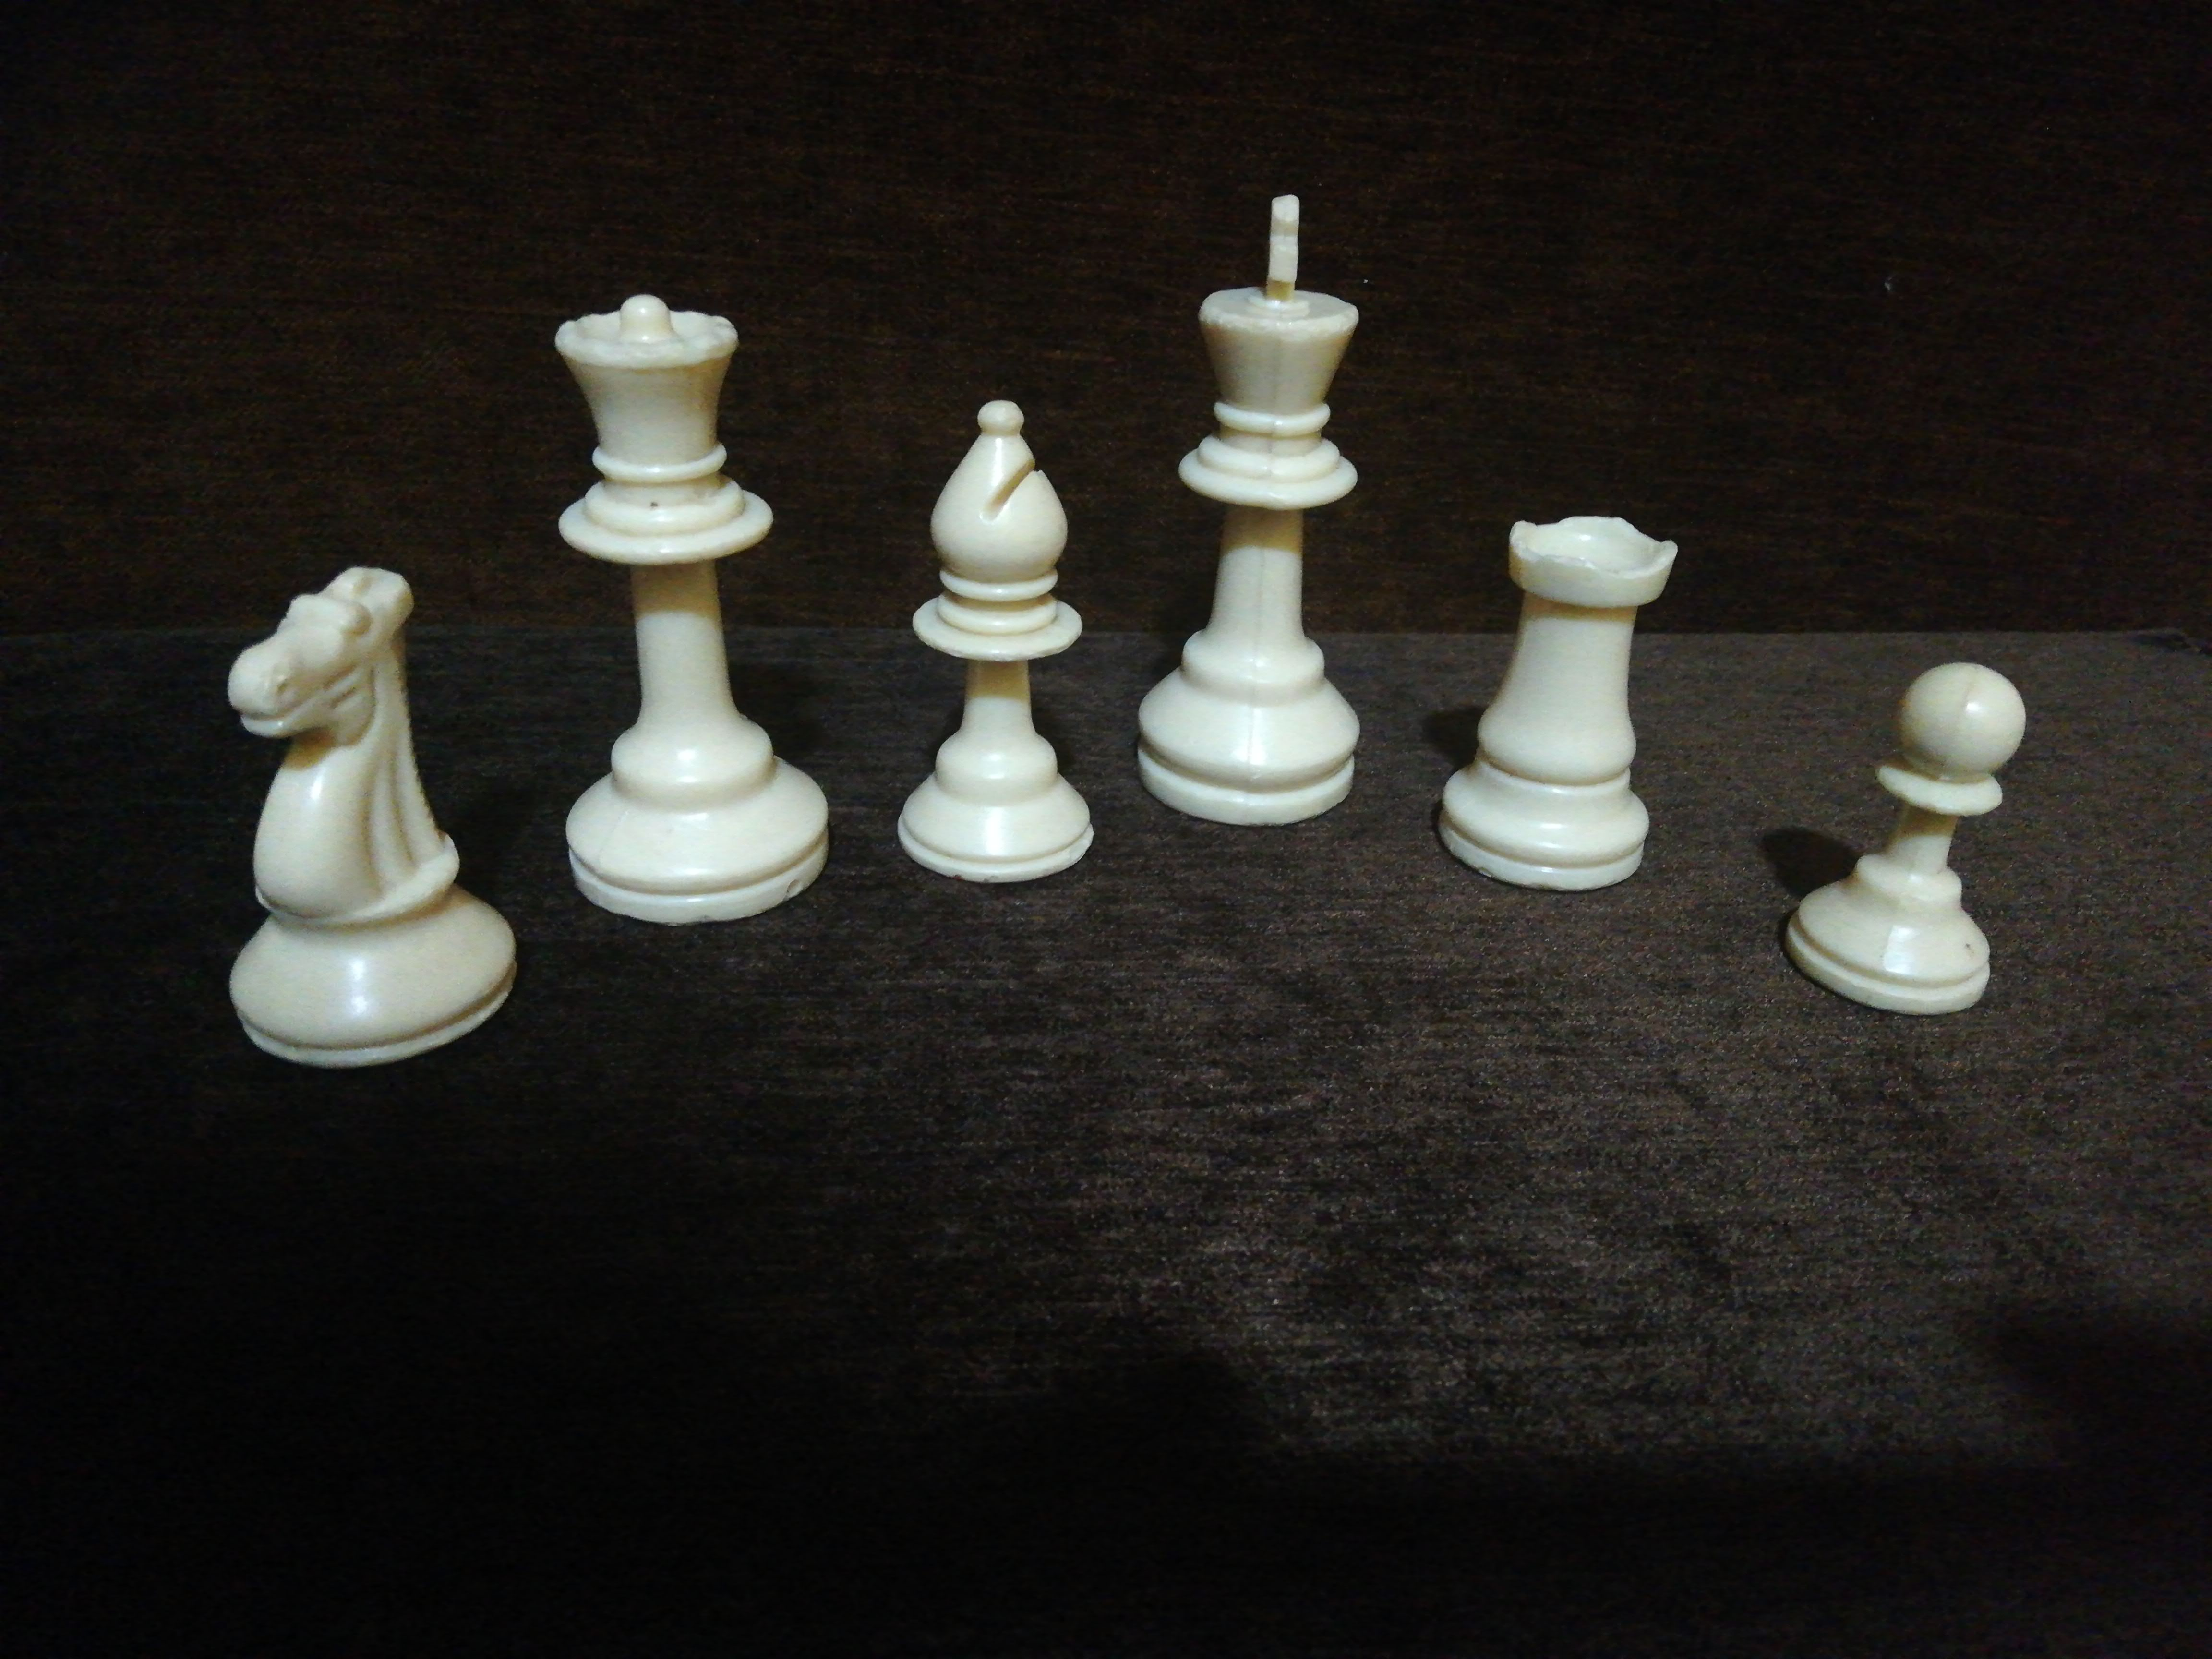Bishop: (907, 386, 1112, 876)
King: (1133, 191, 1366, 815)
Knight: (182, 566, 547, 1062)
Pawn: (1793, 637, 2013, 1028)
Queen: (527, 300, 842, 920)
Rook: (1435, 500, 1663, 899)
